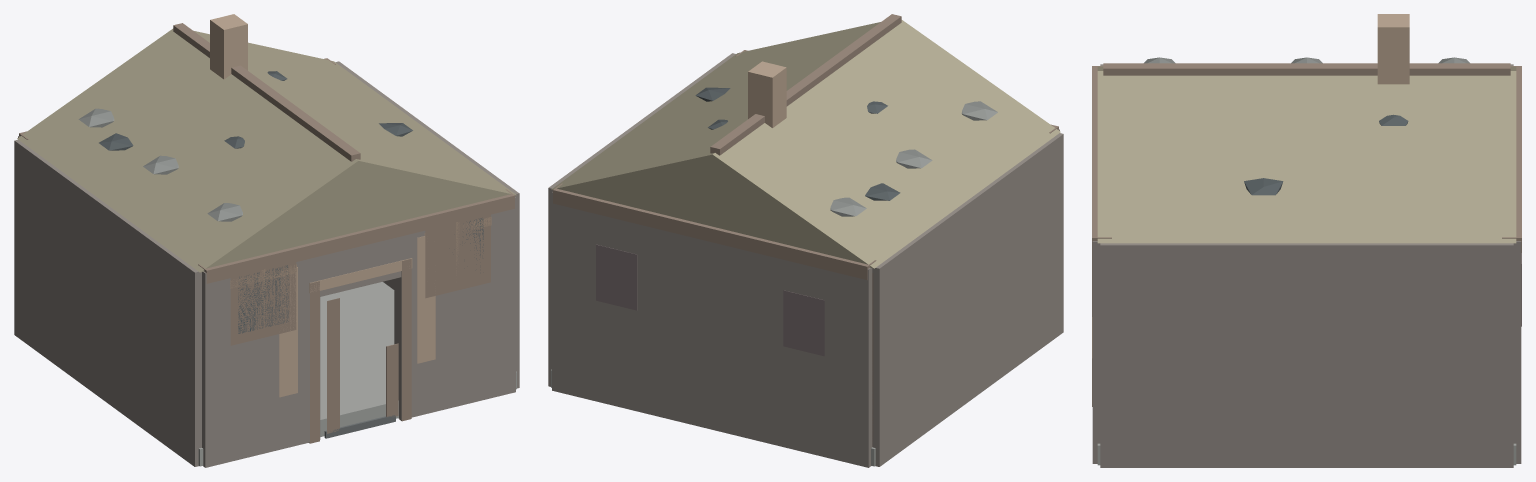
Rendered from peat_hut_abandoned.glb.
3 renders of one model, left to right at view 1: azimuth 30°, elevation 25°; view 2: azimuth 150°, elevation 25°; view 3: azimuth 270°, elevation 25°, orthographic. The views are drawn at different scales.
Parts seen in each view (by area): view 1: peat_hut_mat_01, peat_hut_mat_08, peat_hut_mat_02, peat_hut_mat_00, peat_hut_mat_03, peat_hut_mat_09, peat_hut_mat_05, peat_hut_mat_10, peat_hut_mat_06, peat_hut_mat_04; view 2: peat_hut_mat_01, peat_hut_mat_08, peat_hut_mat_02, peat_hut_mat_07, peat_hut_mat_03, peat_hut_mat_09, peat_hut_mat_10; view 3: peat_hut_mat_01, peat_hut_mat_08, peat_hut_mat_02, peat_hut_mat_03, peat_hut_mat_10, peat_hut_mat_09.
Part boxes in pixels (x1=…): peat_hut_mat_01: x1=14, y1=61, x2=519, y2=467; peat_hut_mat_08: x1=17, y1=28, x2=516, y2=272; peat_hut_mat_02: x1=19, y1=23, x2=514, y2=443; peat_hut_mat_00: x1=198, y1=282, x2=516, y2=466; peat_hut_mat_03: x1=210, y1=14, x2=435, y2=397; peat_hut_mat_09: x1=78, y1=108, x2=242, y2=221; peat_hut_mat_05: x1=238, y1=218, x2=483, y2=333; peat_hut_mat_10: x1=99, y1=71, x2=412, y2=150; peat_hut_mat_06: x1=230, y1=217, x2=491, y2=328; peat_hut_mat_04: x1=324, y1=415, x2=395, y2=438; peat_hut_mat_01: x1=548, y1=53, x2=1063, y2=467; peat_hut_mat_08: x1=551, y1=20, x2=1060, y2=268; peat_hut_mat_02: x1=553, y1=14, x2=1058, y2=445; peat_hut_mat_07: x1=596, y1=244, x2=824, y2=356; peat_hut_mat_03: x1=748, y1=61, x2=786, y2=127; peat_hut_mat_09: x1=830, y1=101, x2=997, y2=216; peat_hut_mat_10: x1=695, y1=87, x2=900, y2=200; peat_hut_mat_01: x1=1092, y1=64, x2=1521, y2=467; peat_hut_mat_08: x1=1097, y1=66, x2=1516, y2=243; peat_hut_mat_02: x1=1092, y1=63, x2=1521, y2=406; peat_hut_mat_03: x1=1092, y1=14, x2=1409, y2=358; peat_hut_mat_10: x1=1244, y1=114, x2=1408, y2=195; peat_hut_mat_09: x1=1144, y1=57, x2=1469, y2=63.
Size of the model in its own units: 2.97 by 2.73 by 2.98.
